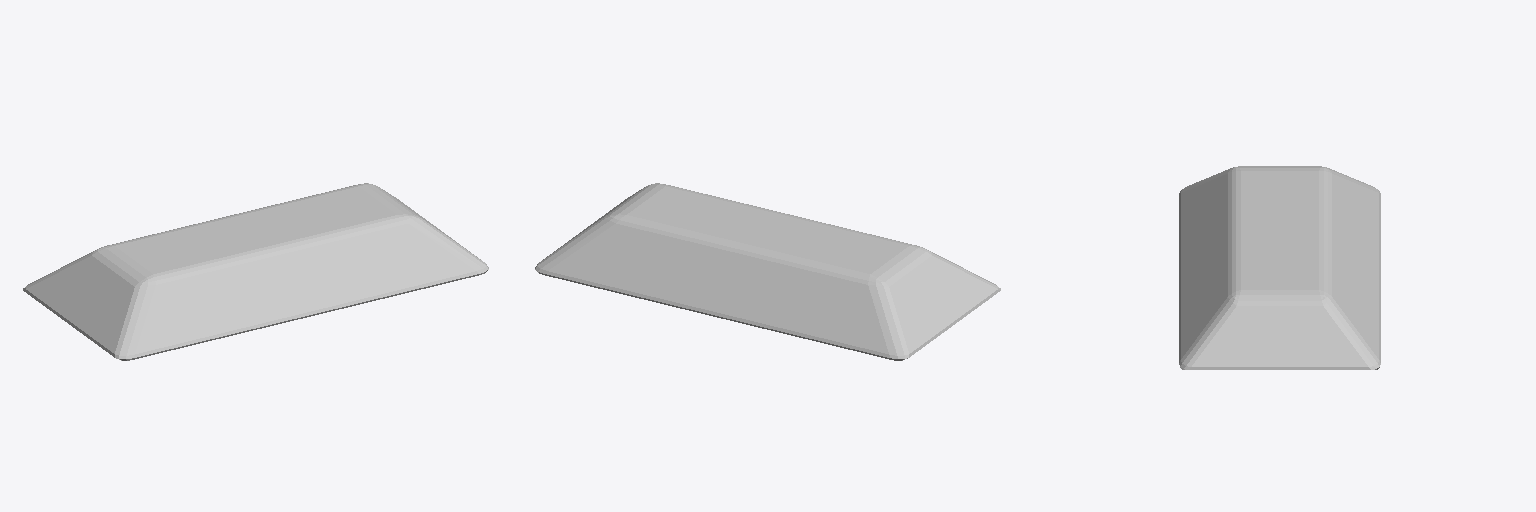
The model's file is block.obj.
3 views of the same model, side by side, from view 1: azimuth 30°, elevation 25°; view 2: azimuth 150°, elevation 25°; view 3: azimuth 270°, elevation 25° (orthographic).
Parts seen in each view (by area): view 1: Cube; view 2: Cube; view 3: Cube.
Part boxes in pixels (left/top/right/bottom): Cube: left=23, top=183, right=488, bottom=360; Cube: left=535, top=183, right=1000, bottom=360; Cube: left=1179, top=166, right=1380, bottom=369.
Bounding box in the file's own units: 3.81 × 0.5 × 1.79.